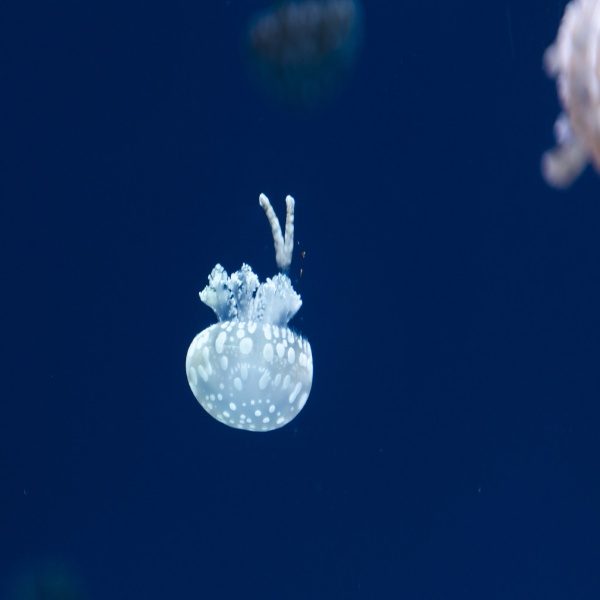Jellyfish: (180, 213, 315, 427)
